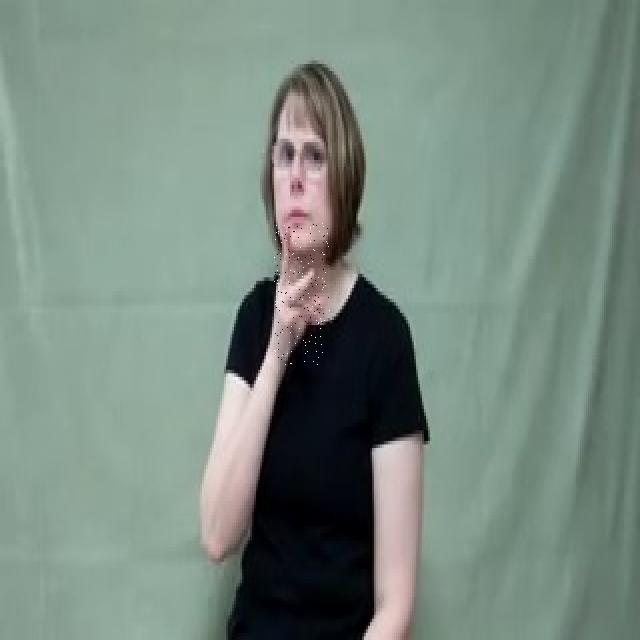water: (274, 224, 330, 366)
